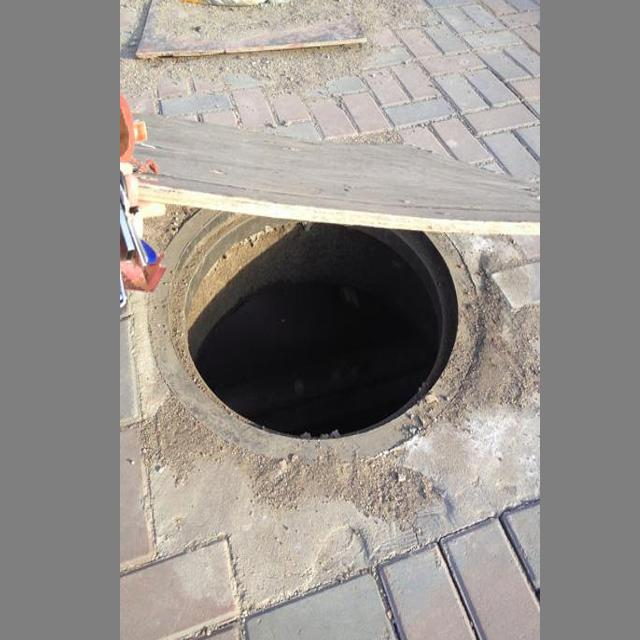lose: (148, 171, 497, 461)
